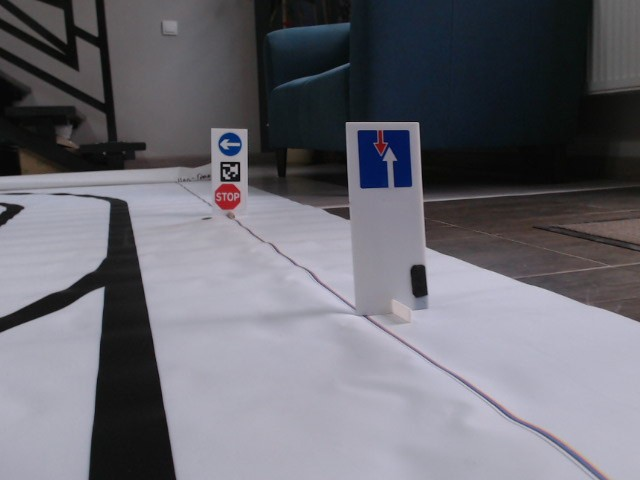Stop: (213, 183, 241, 209)
priority_movement: (356, 127, 414, 189)
